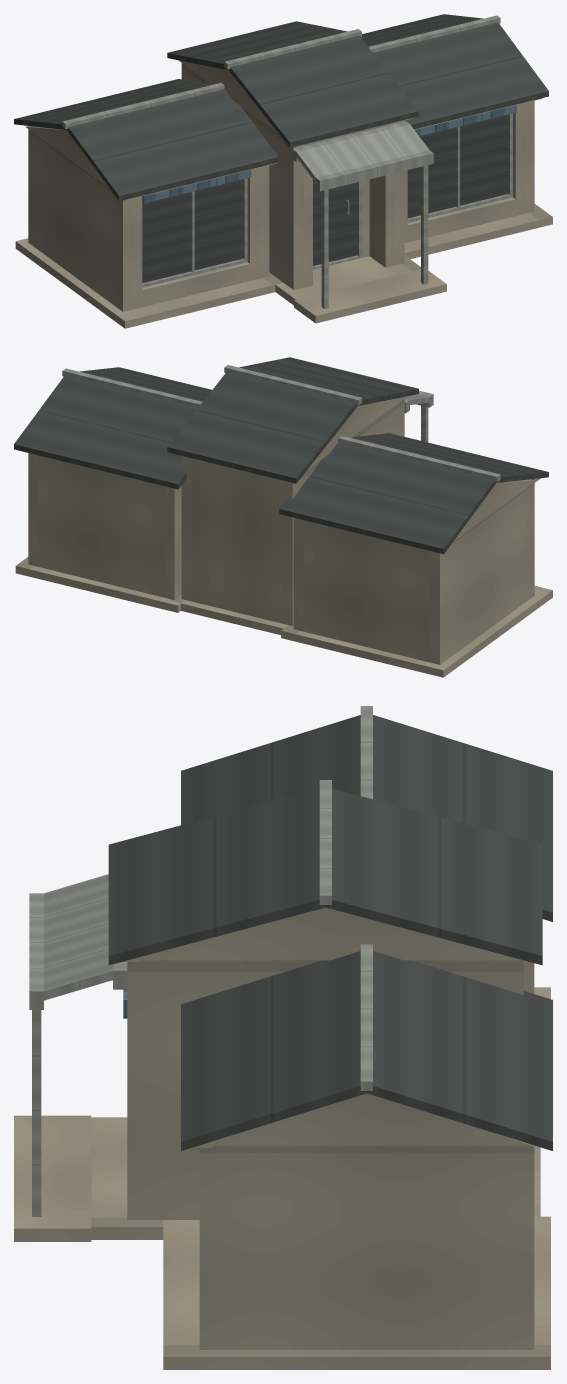
File: stockholm.glb
3 renders of one model, top to bottom at view 1: azimuth 30°, elevation 25°; view 2: azimuth 150°, elevation 25°; view 3: azimuth 270°, elevation 25°, orthographic. The views are drawn at different scales.
Parts seen in each view (by area): view 1: stockholm; view 2: stockholm; view 3: stockholm.
Boxes of the visible parts, x1,y1,x2,y2 form: stockholm: (14, 14, 552, 328); stockholm: (14, 357, 552, 677); stockholm: (14, 706, 552, 1369).
Bounding box in the file's own units: 8.57 × 3.7 × 5.2.
Materials: 1 (1 with a texture image).
